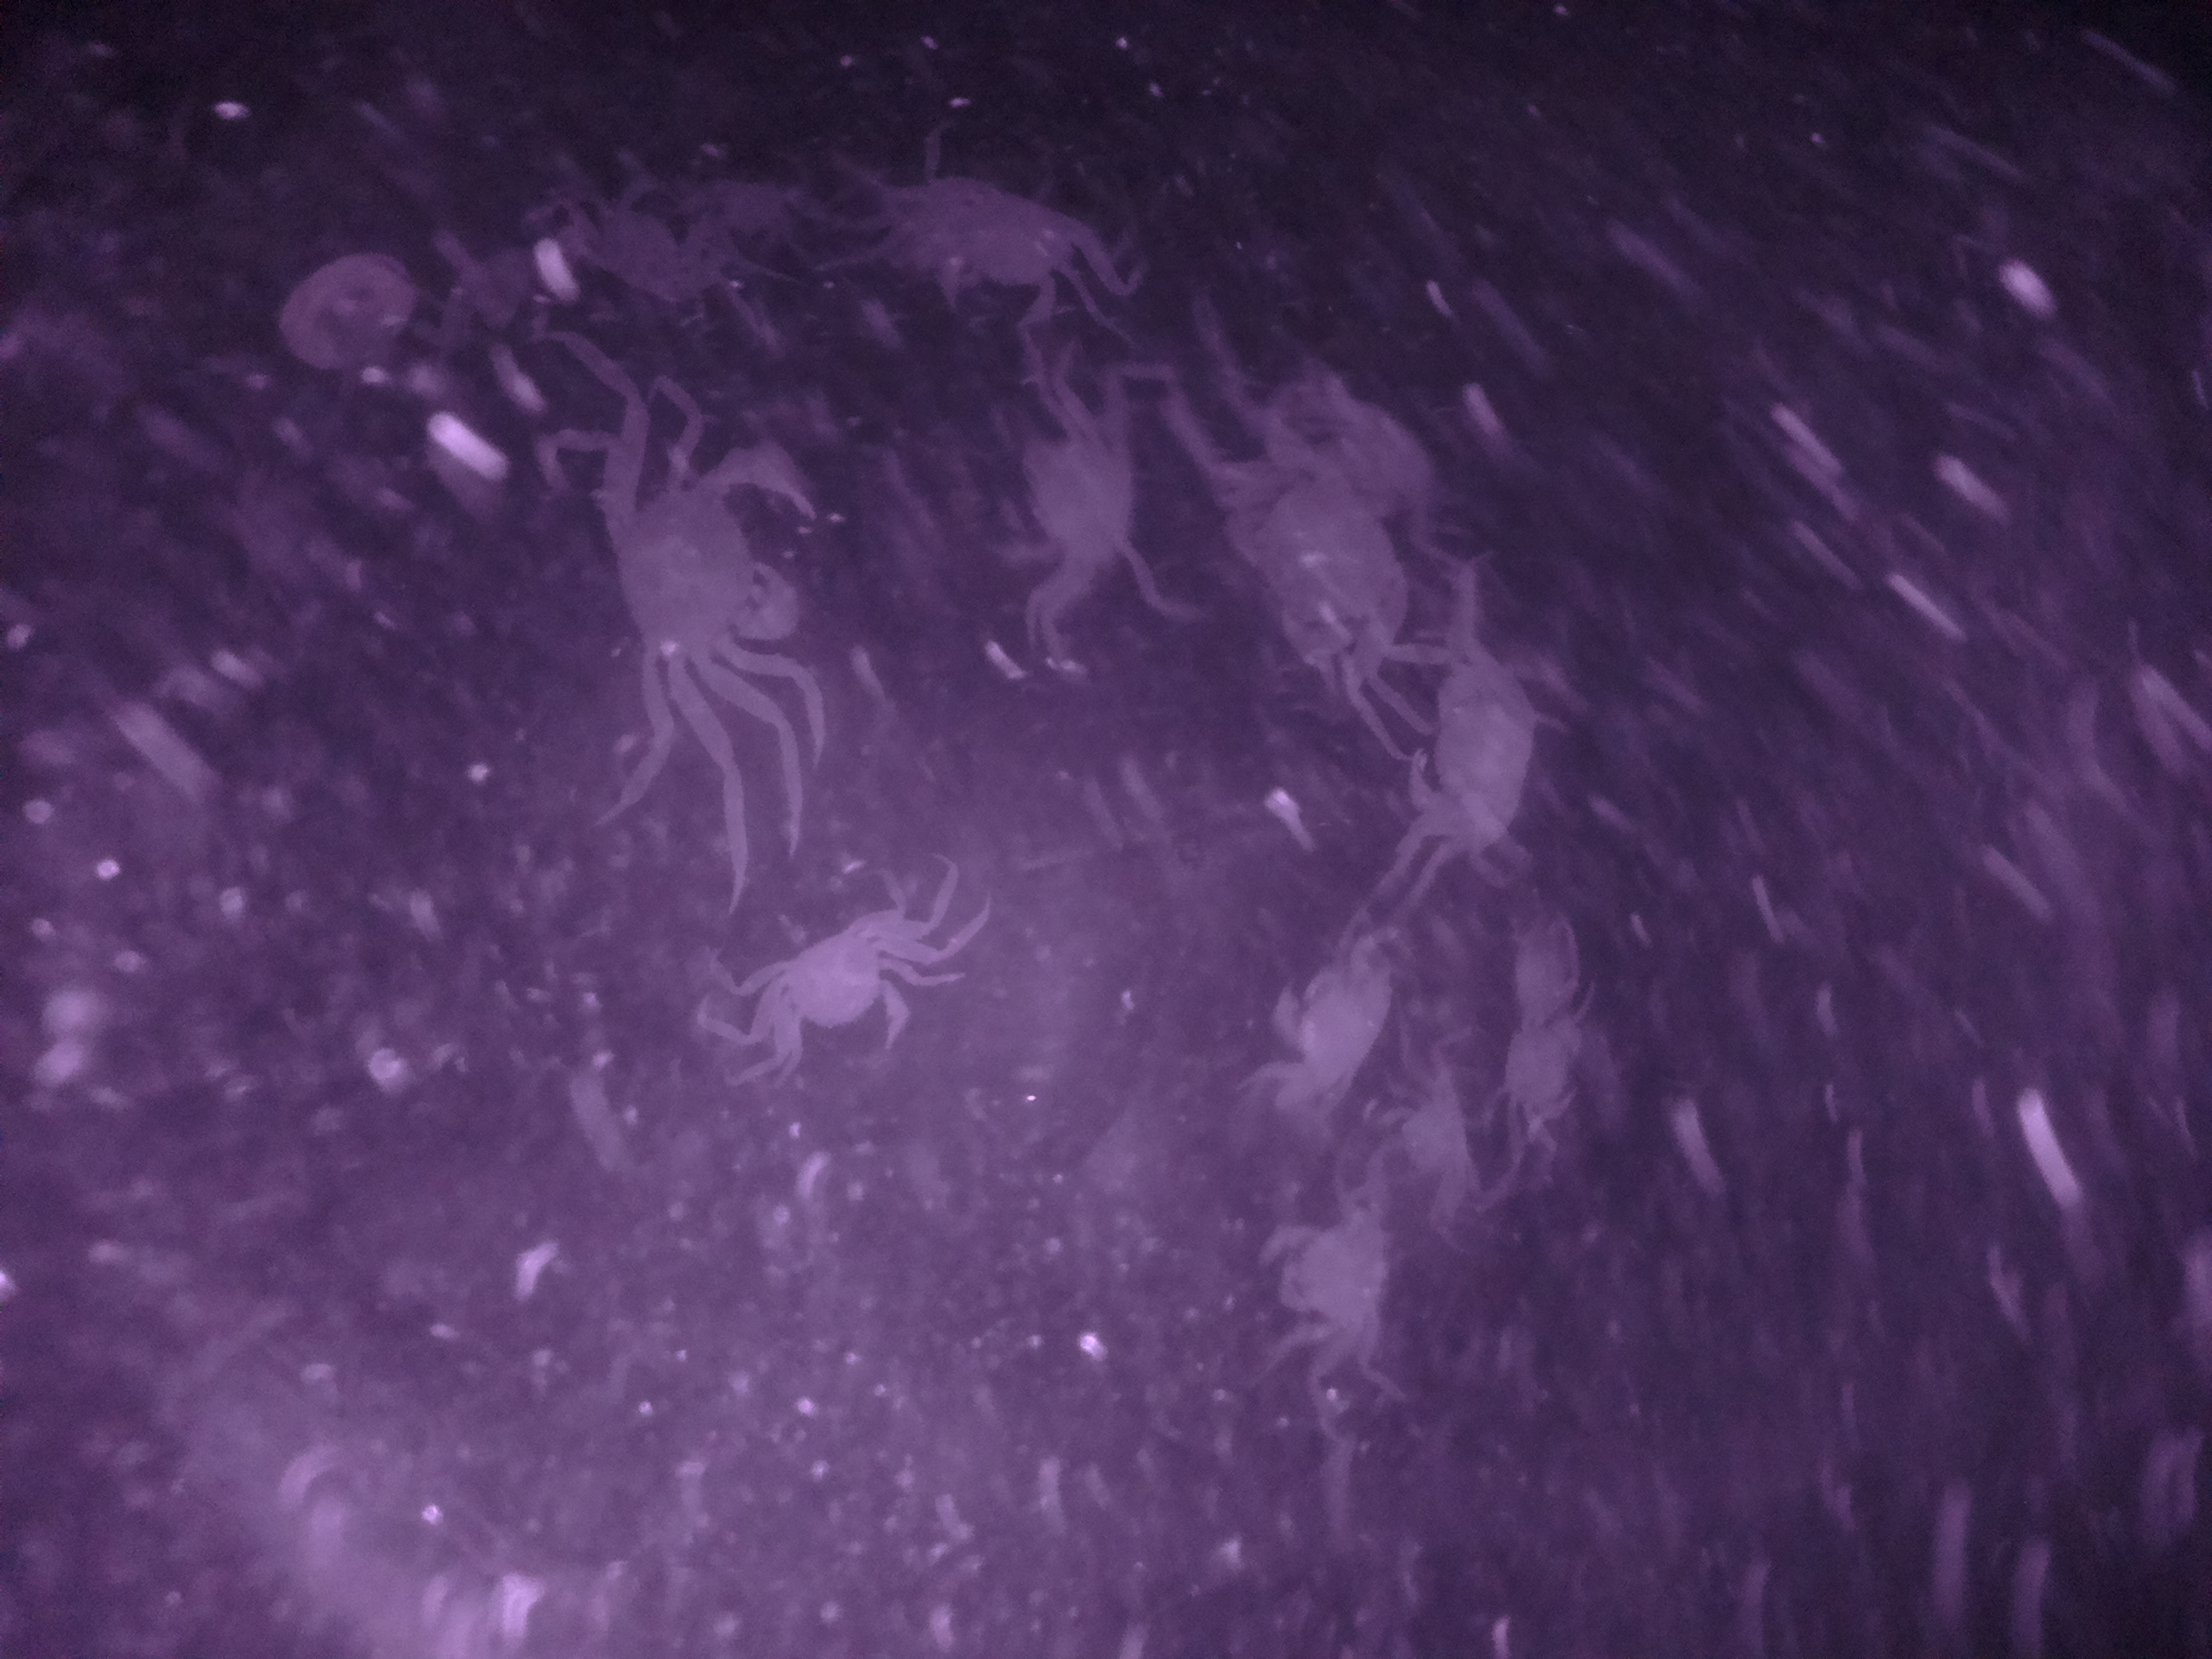Crab: (575, 430, 826, 727), (728, 890, 932, 1105), (1393, 641, 1564, 859), (1270, 924, 1393, 1121), (1244, 1208, 1418, 1344), (1496, 999, 1594, 1148)
